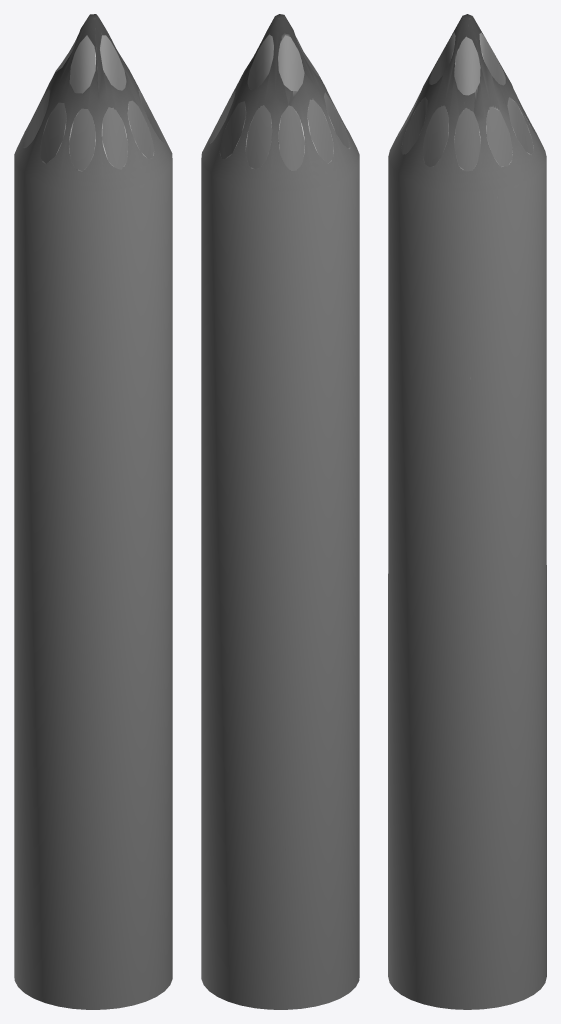
File: launcher.obj
3 renders of one model, left to right at view 1: azimuth 30°, elevation 25°; view 2: azimuth 150°, elevation 25°; view 3: azimuth 270°, elevation 25°, orthographic.
Parts seen in each view (by area): view 1: 柱体.001; view 2: 柱体.001; view 3: 柱体.001.
Boxes of the visible parts, x1=… form: 柱体.001: x1=14, y1=14, x2=172, y2=1009; 柱体.001: x1=201, y1=14, x2=359, y2=1009; 柱体.001: x1=388, y1=14, x2=546, y2=1009.
Size of the model in its own units: 0.6 by 4 by 0.6.
1 material, 1 textured.
